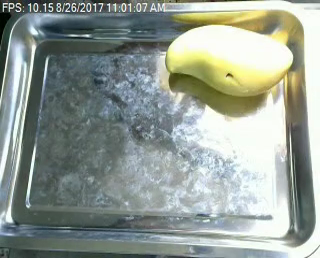Mango: (162, 20, 302, 101)
